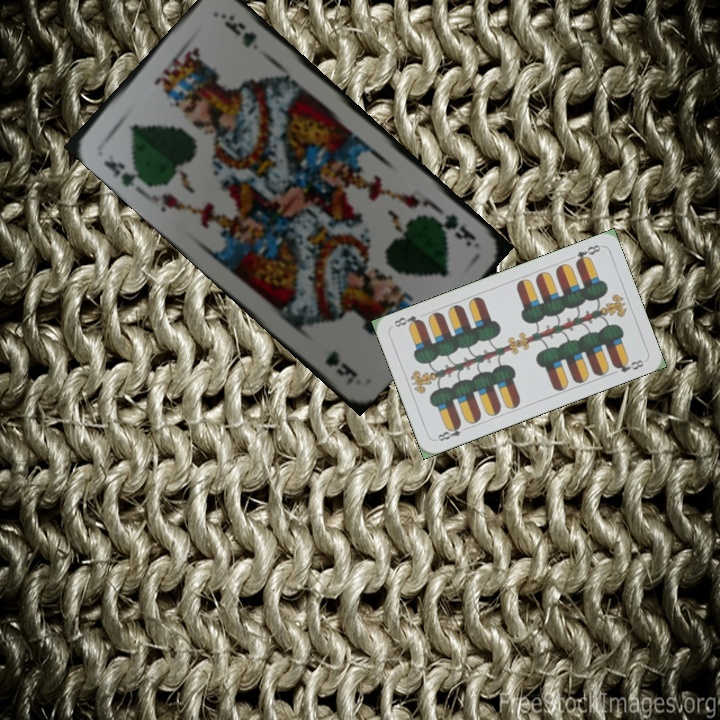E8: (434, 419, 471, 444), (571, 241, 603, 267)
GK: (428, 210, 479, 249), (99, 156, 146, 190)
